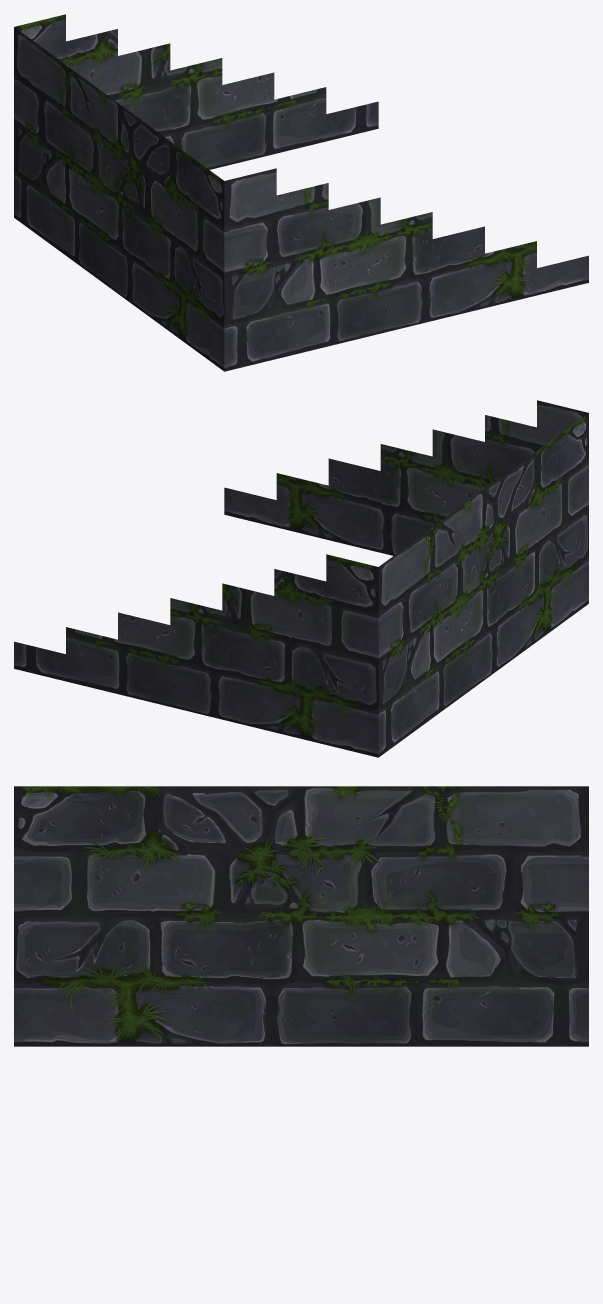
Rendered from MOD_Stairs_01_WallCover_3.fbx.
The picture shows the model from 3 angles, top to bottom: view 1: azimuth 30°, elevation 25°; view 2: azimuth 150°, elevation 25°; view 3: azimuth 270°, elevation 25°; orthographic projection. The views are drawn at different scales.
Parts seen in each view (by area): view 1: MOD_Stairs_01_WallCover_3; view 2: MOD_Stairs_01_WallCover_3; view 3: MOD_Stairs_01_WallCover_3.
Part boxes in pixels (x1,y1,x2,y2): MOD_Stairs_01_WallCover_3: [14, 14, 588, 371]; MOD_Stairs_01_WallCover_3: [14, 400, 588, 757]; MOD_Stairs_01_WallCover_3: [14, 786, 588, 1046].
Size of what is drawn, in the model's own units: 400 by 200 by 400.
